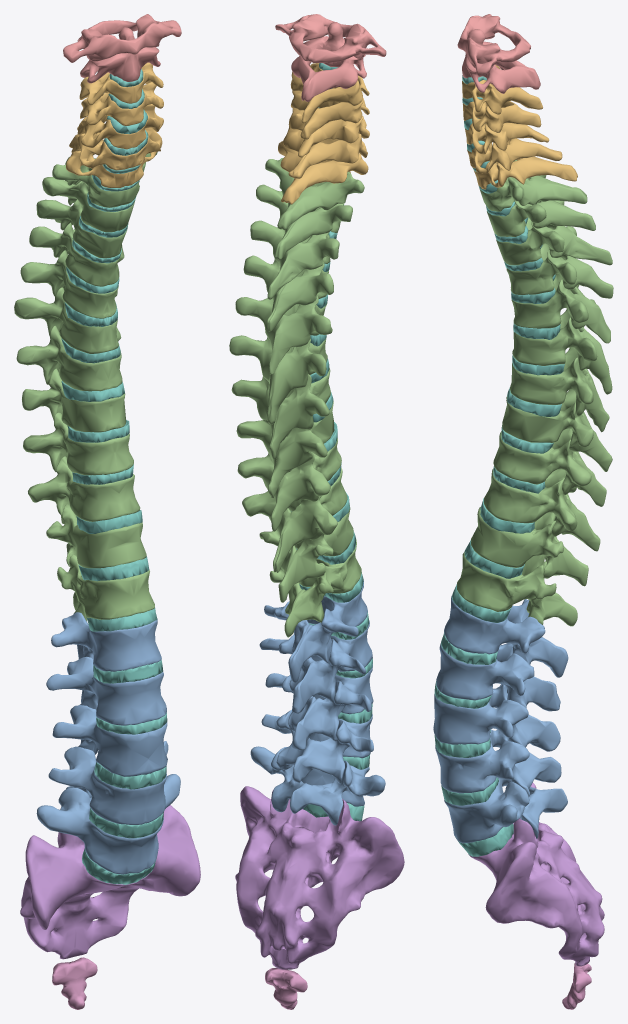
Rendered from columna.glb.
3 views of the same model, side by side, from view 1: azimuth 30°, elevation 25°; view 2: azimuth 150°, elevation 25°; view 3: azimuth 270°, elevation 25° (orthographic). The views are drawn at different scales.
Parts seen in each view (by area): view 1: toracicas, lumbares, discos, sacro, cervicales, atlas-axis, coccix; view 2: toracicas, sacro, lumbares, cervicales, atlas-axis, discos, coccix; view 3: toracicas, lumbares, sacro, discos, cervicales, atlas-axis, coccix.
Part boxes in pixels (box(x1,y1,x2,y2)): toracicas: box(14, 152, 157, 621); lumbares: box(36, 612, 180, 874); discos: box(61, 69, 167, 884); sacro: box(20, 805, 200, 959); cervicales: box(66, 62, 163, 187); atlas-axis: box(63, 14, 181, 83); coccix: box(52, 957, 97, 1009); toracicas: box(229, 158, 364, 637); sacro: box(235, 786, 404, 969); lumbares: box(250, 581, 385, 825); cervicales: box(278, 63, 369, 204); atlas-axis: box(275, 14, 386, 101); discos: box(291, 63, 372, 821); coccix: box(265, 968, 307, 1009); toracicas: box(457, 160, 613, 626); lumbares: box(433, 596, 568, 843); sacro: box(468, 782, 604, 966); discos: box(434, 75, 564, 856); cervicales: box(462, 65, 577, 189); atlas-axis: box(457, 14, 540, 93); coccix: box(562, 963, 591, 1009).
Bounding box in the file's own units: 0.1229 × 0.7225 × 0.1202.
